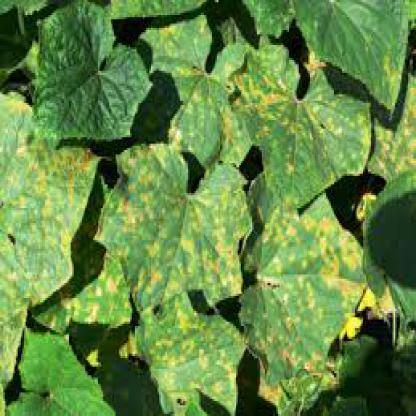DownyMildew: (122, 150, 244, 309), (249, 64, 366, 198), (0, 97, 79, 285)
